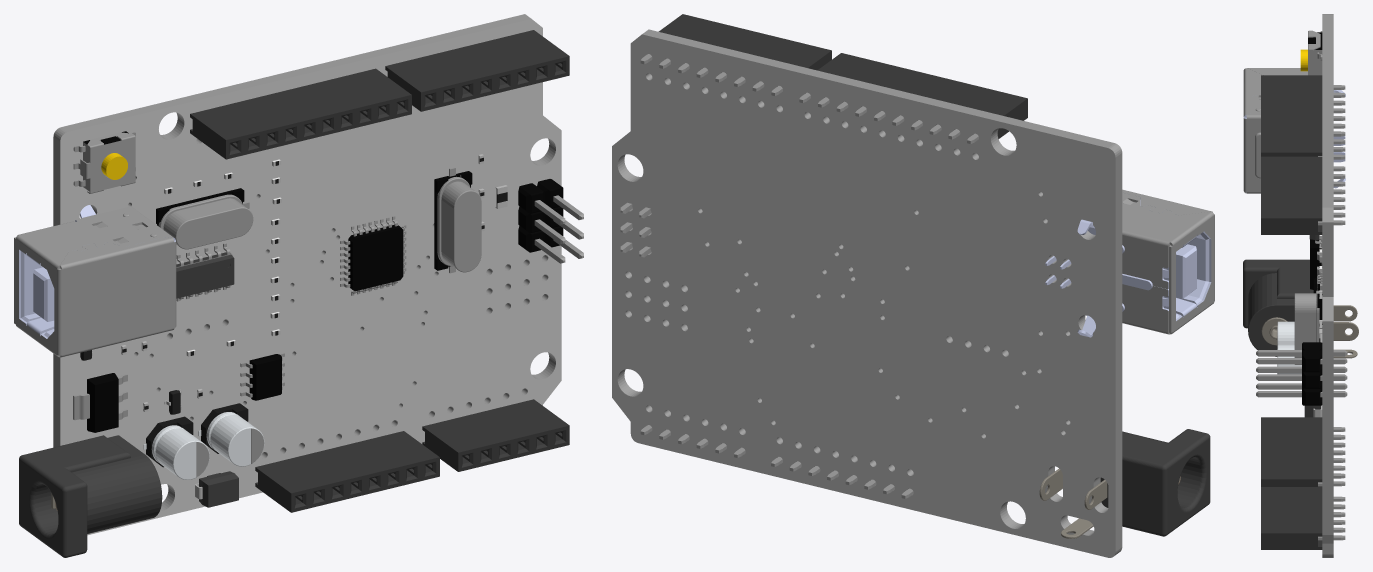
Rendered from MyObject.obj.
3 views of the same model, side by side, from view 1: azimuth 30°, elevation 25°; view 2: azimuth 150°, elevation 25°; view 3: azimuth 270°, elevation 25° (orthographic). The views are drawn at different scales.
Visible parts, largest first — view 1: Object.1; view 2: Object.1; view 3: Object.1.
Boxes of the visible parts, left/top/right/bottom form: Object.1: left=14, top=14, right=583, bottom=557; Object.1: left=612, top=14, right=1214, bottom=557; Object.1: left=1243, top=14, right=1358, bottom=557.
Size of the model in its own units: 75.01 by 53.3 by 16.1.
